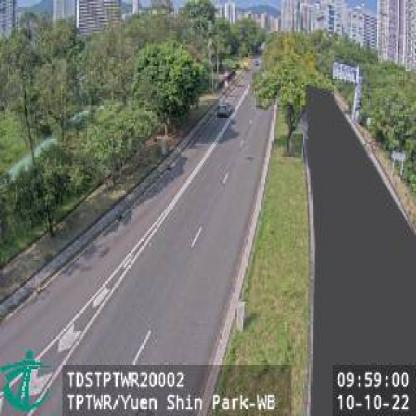Car: (218, 99, 234, 119)
